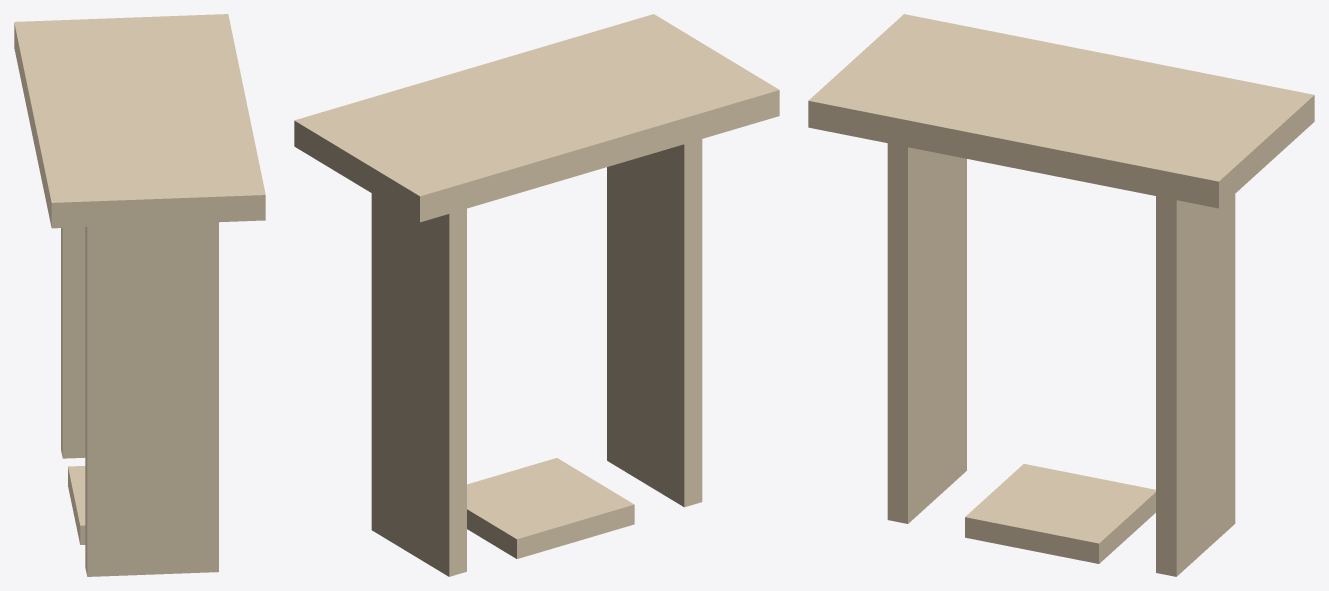
File: beso-two-drawer-staff-table.glb
The picture shows the model from 3 angles, left to right: view 1: azimuth 30°, elevation 25°; view 2: azimuth 150°, elevation 25°; view 3: azimuth 270°, elevation 25°; orthographic projection. The views are drawn at different scales.
Bounding box in the file's own units: 45.54 × 54 × 58.12.
